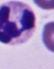N: (0, 0, 39, 46)
